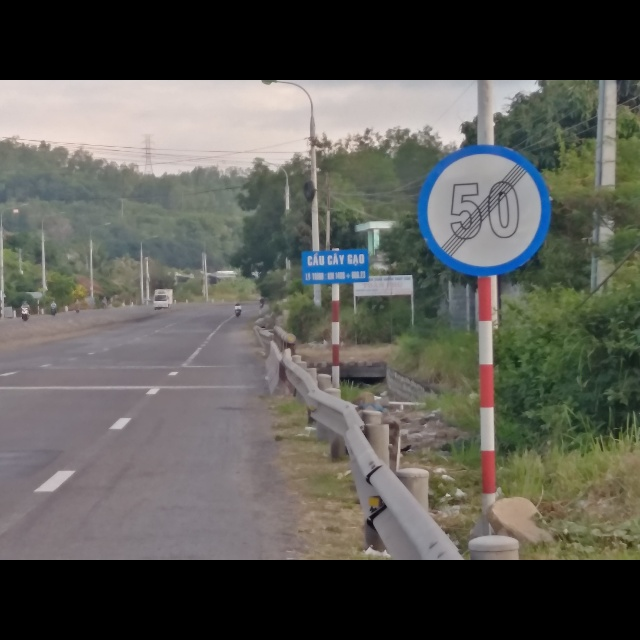Hết hạn chế tốc độ tối đa 50km/h: (418, 141, 555, 276)
